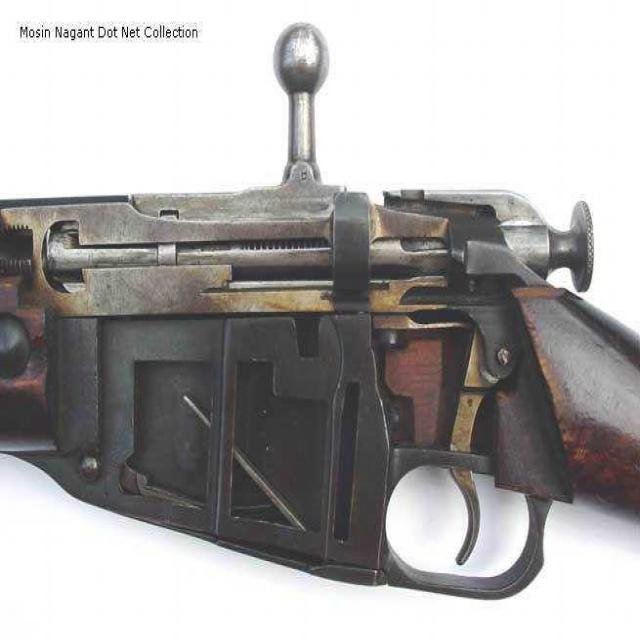weapon: (8, 103, 640, 596)
